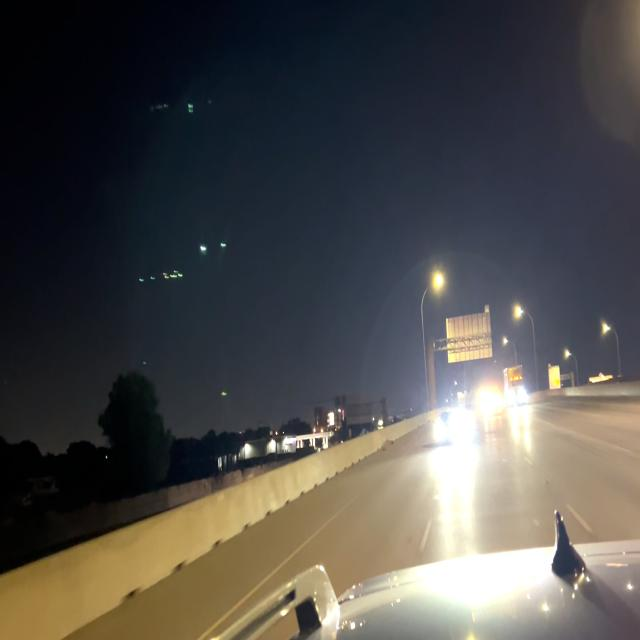back-of-sign: (445, 305, 495, 366), (344, 394, 374, 427)
